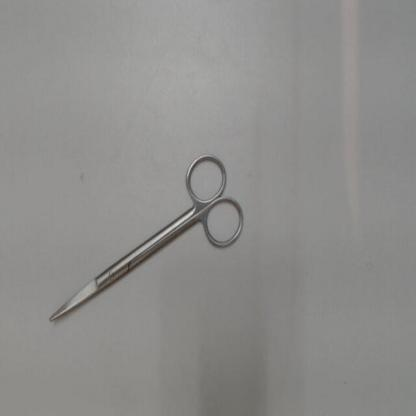Curved Mayo Scissors: (44, 148, 254, 332)
